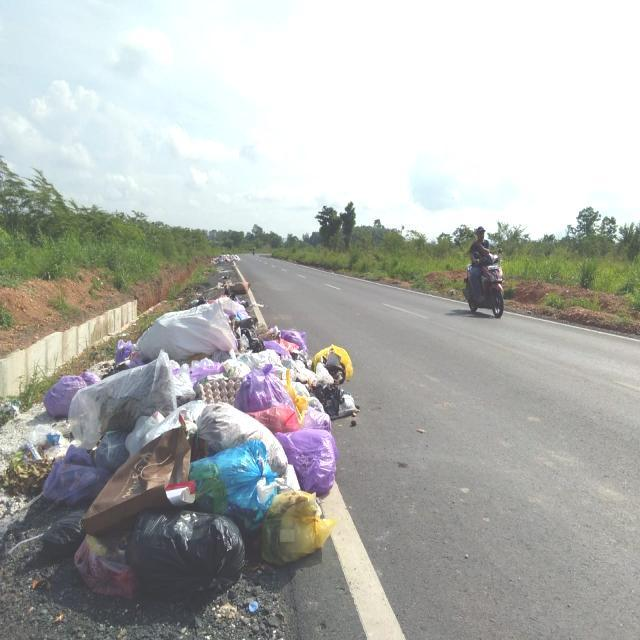high trash: (42, 296, 351, 599)
